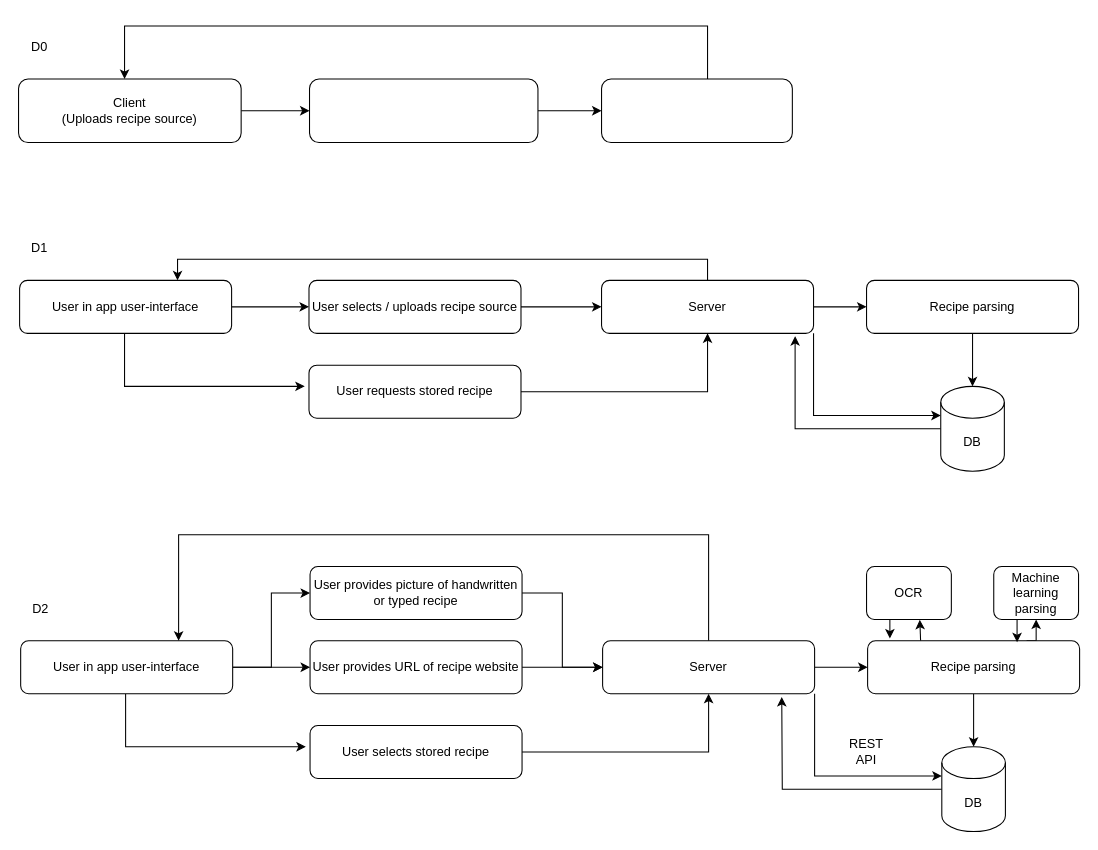
Image size: 1098x850. Some labels were removed from this diagram. The centre of each missing label's shape, as x and y in pixels:
Server (Intelligent recipe parsing) (Storage of recipes): (423,110)
User Interface: (696,110)
